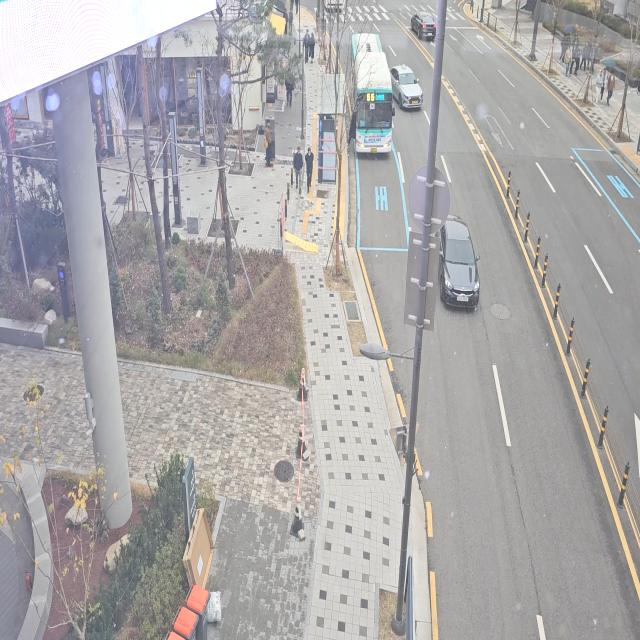Bus: (348, 22, 398, 160)
Car: (430, 194, 483, 320), (390, 55, 429, 113), (404, 6, 446, 49), (322, 0, 350, 16)
